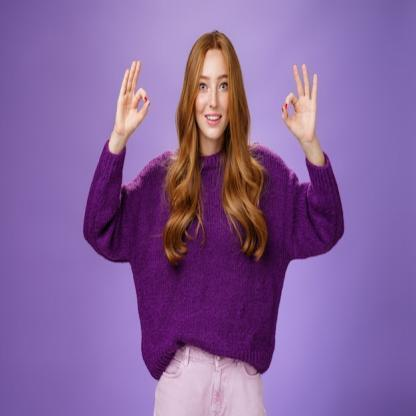ok: (114, 56, 151, 140), (281, 62, 319, 143)
